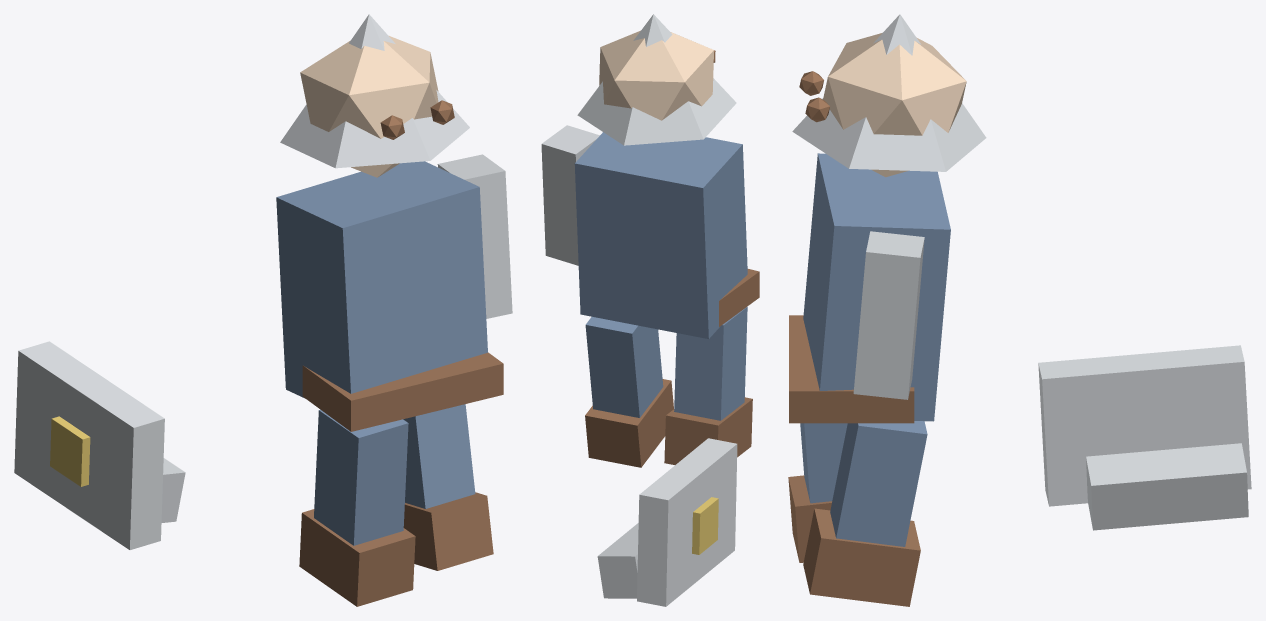
The model's file is npcpose_guard_attack_09.glb.
3 renders of one model, left to right at view 1: azimuth 30°, elevation 25°; view 2: azimuth 150°, elevation 25°; view 3: azimuth 270°, elevation 25°, orthographic. The views are drawn at different scales.
Visible parts, largest first — view 1: npcpose; view 2: npcpose; view 3: npcpose.
Part boxes in pixels (<box>): npcpose: <box>14,14,512,606</box>; npcpose: <box>541,14,759,606</box>; npcpose: <box>788,14,1251,606</box>.
Bounding box in the file's own units: 0.9403 × 1.59 × 1.18.
